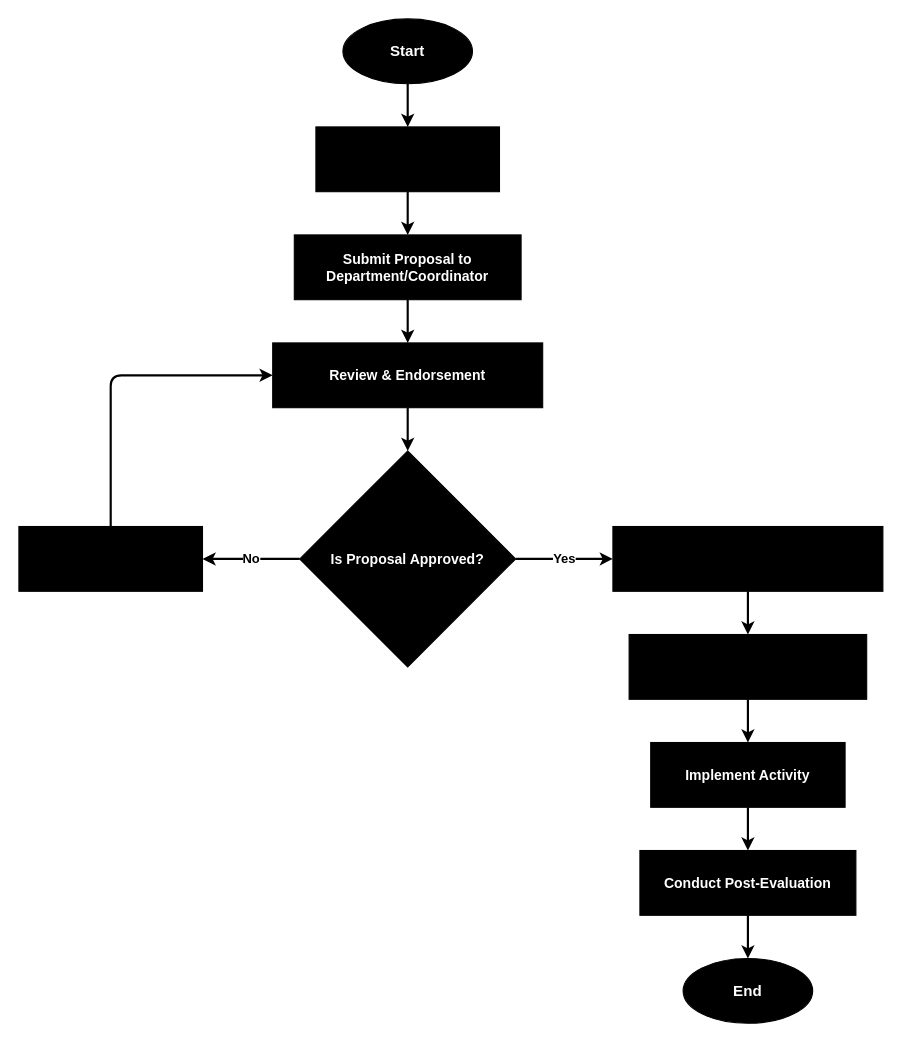
The diagram is 902 pixels wide and 1042 high, and some of its shapes have lost their labels. The centre of each missing label's shape, as x and y in pixels:
"Final Administrative Approval" goes at (x=747, y=558).
"Plan Event Implementation" goes at (x=747, y=666).
"Prepare Activity Proposal" goes at (x=407, y=159).
"Revise Proposal" goes at (x=110, y=558).
